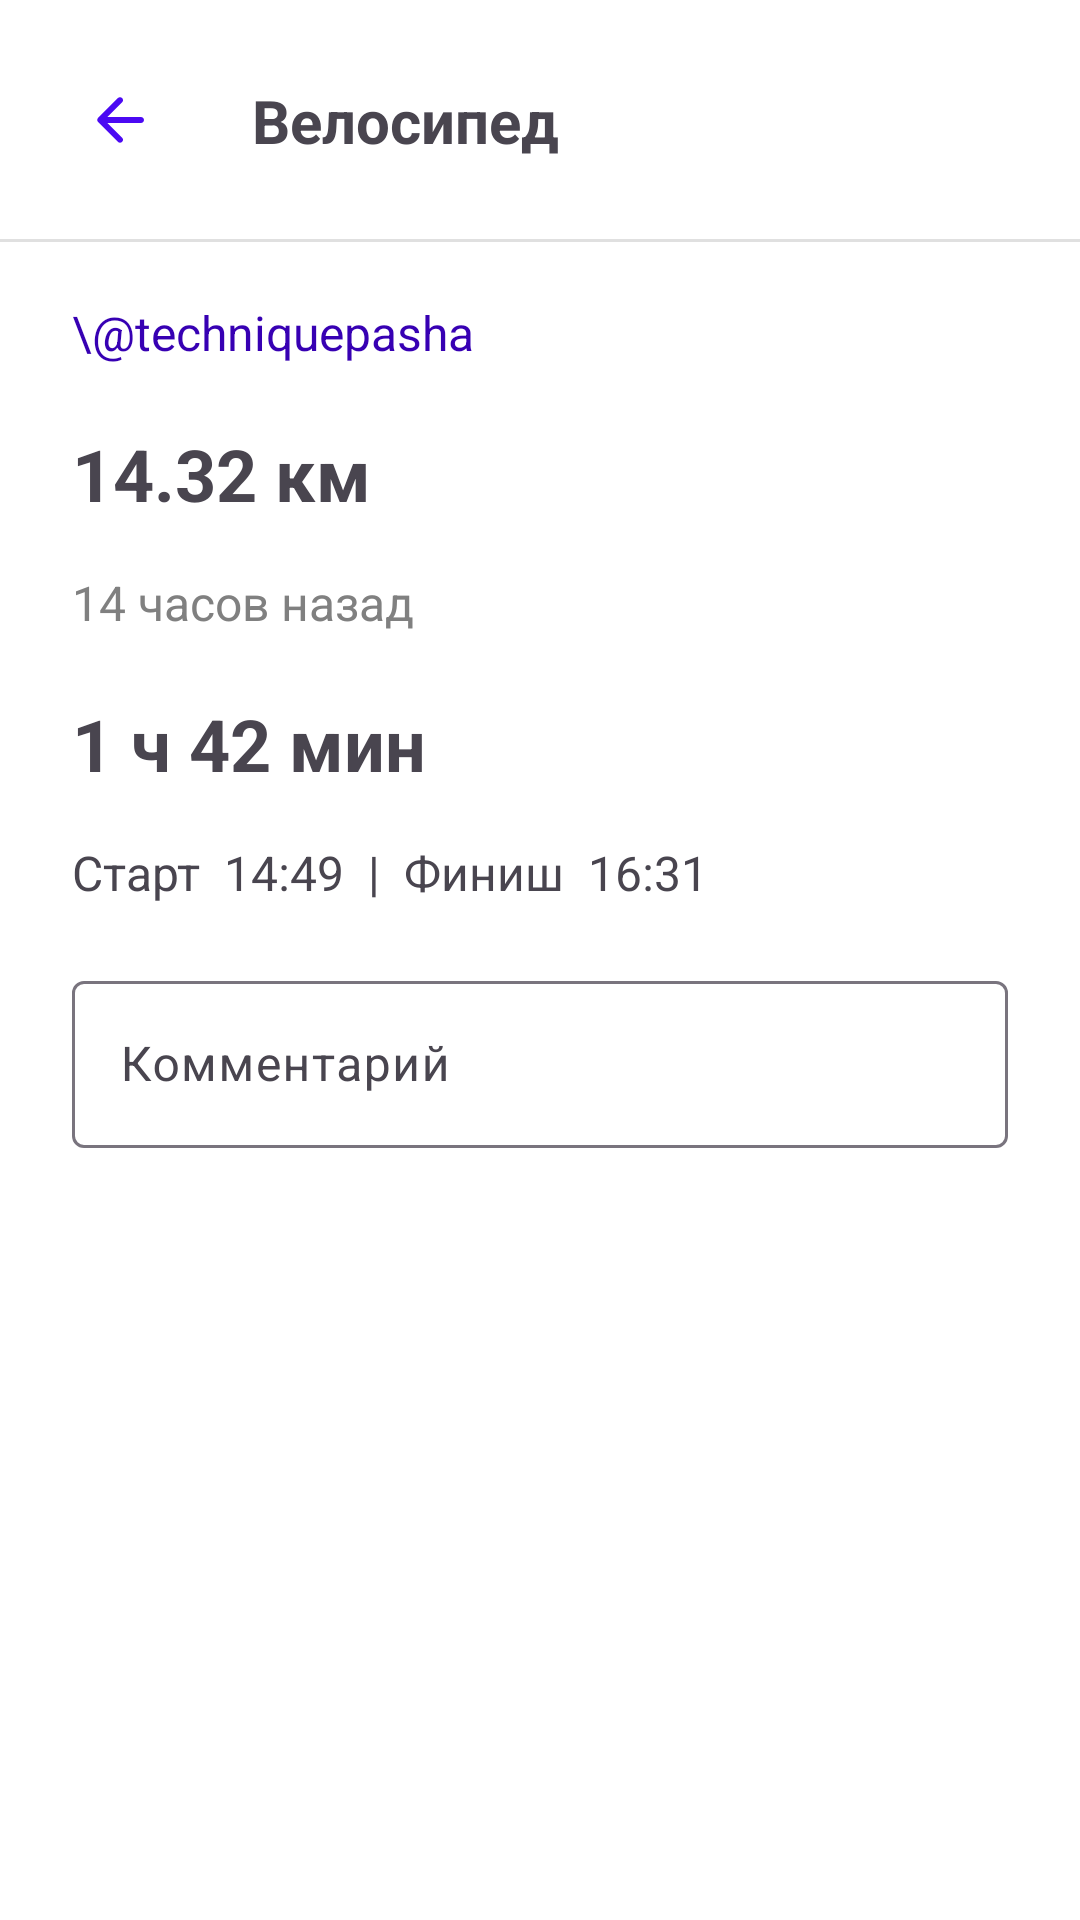

Point at icon controls on the screen. Image size 1080×1920, points as point (x, y).
arrow: point (120, 120)
